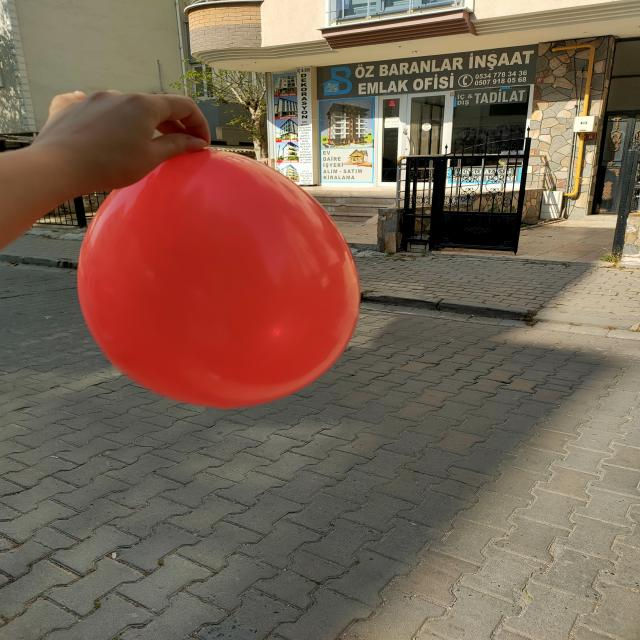red: (76, 148, 358, 412)
